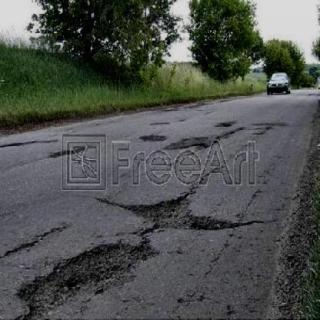pothole: (17, 242, 153, 320), (95, 193, 265, 237)
